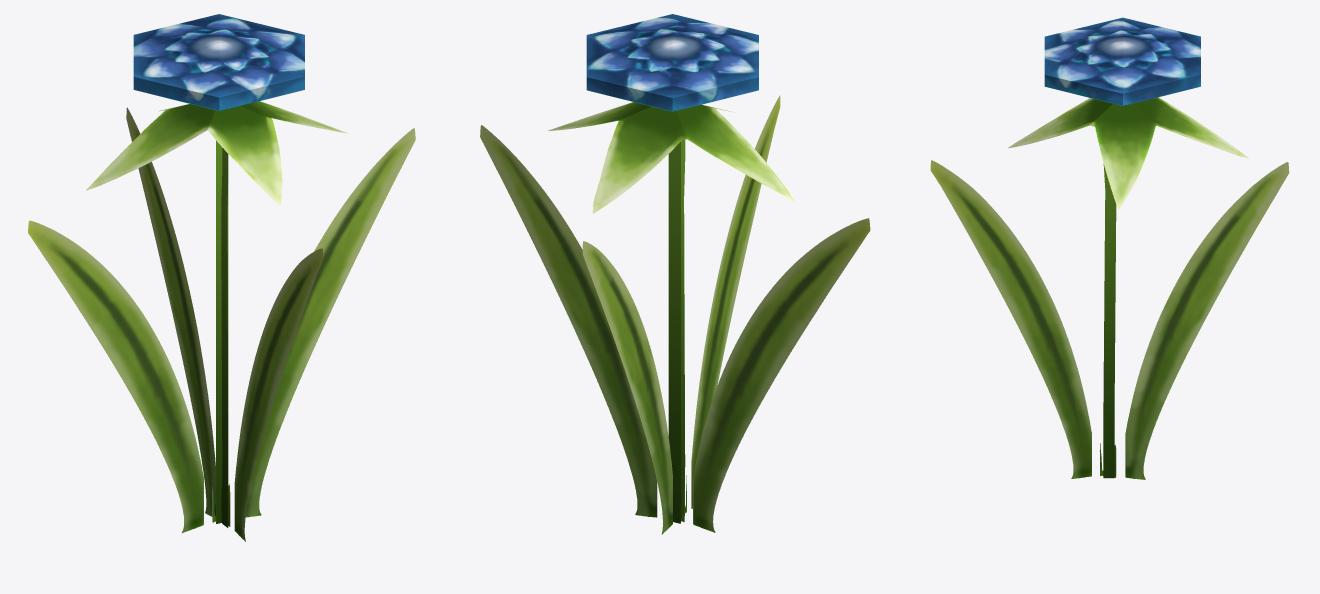
The model's file is FlowerSingle.FBX.
The picture shows the model from 3 angles, left to right: view 1: azimuth 30°, elevation 25°; view 2: azimuth 150°, elevation 25°; view 3: azimuth 270°, elevation 25°; orthographic projection. The views are drawn at different scales.
Visible parts, largest first — view 1: FlowerSingle; view 2: FlowerSingle; view 3: FlowerSingle.
Boxes of the visible parts, box(x1,y1,x2,y2) form: FlowerSingle: box(28, 14, 415, 541); FlowerSingle: box(480, 14, 870, 534); FlowerSingle: box(930, 17, 1289, 479).
Bounding box in the file's own units: 99.68 × 110 × 88.92.
